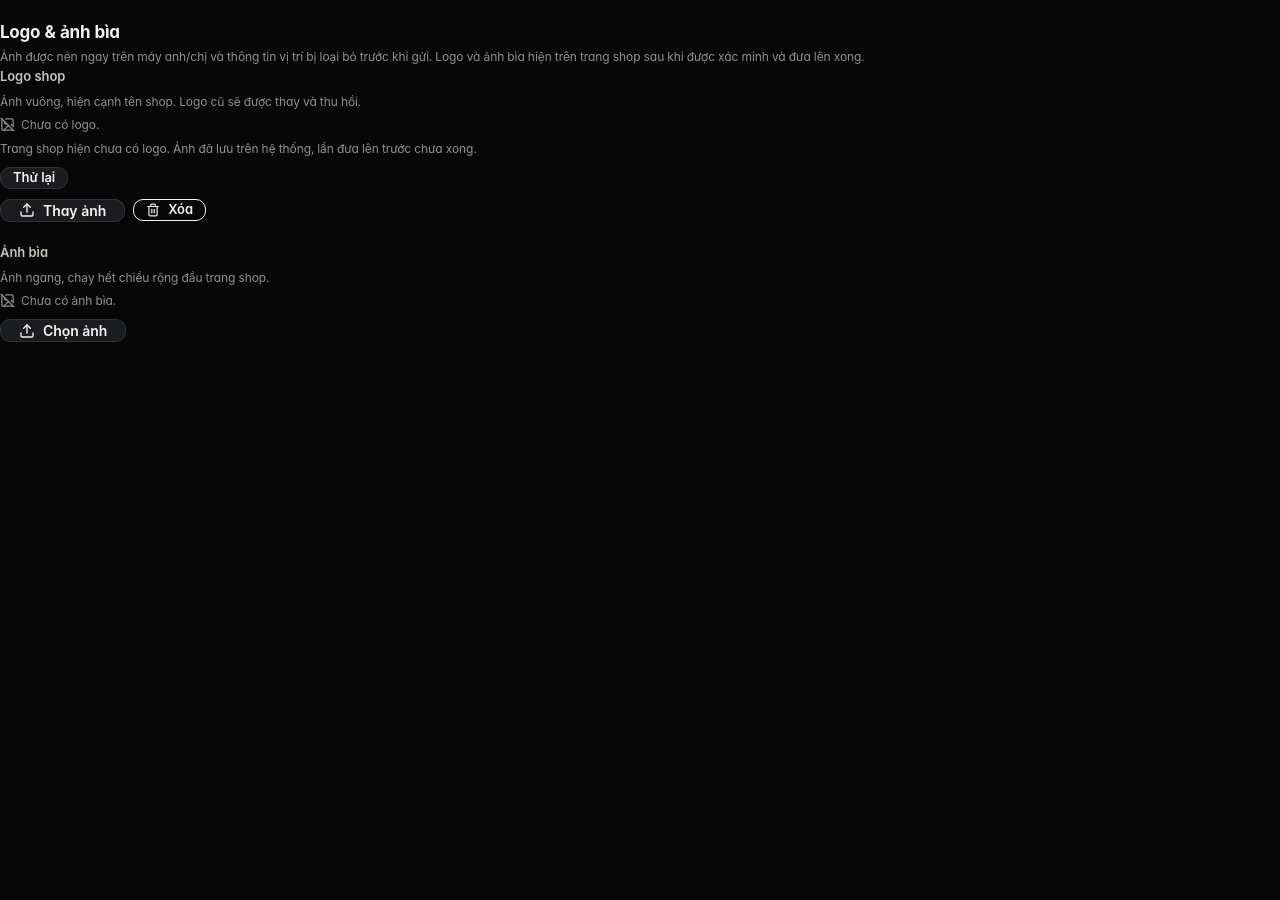
publishing the logo and cover › says what the worker actually refused, and shows the code to screenshot
What coordinates should you click on to do the following:
click the button with aria-label "Thử đưa logo lên trang shop lại"
I would click on:
 (34, 178)
Its box is [0,167,68,189].
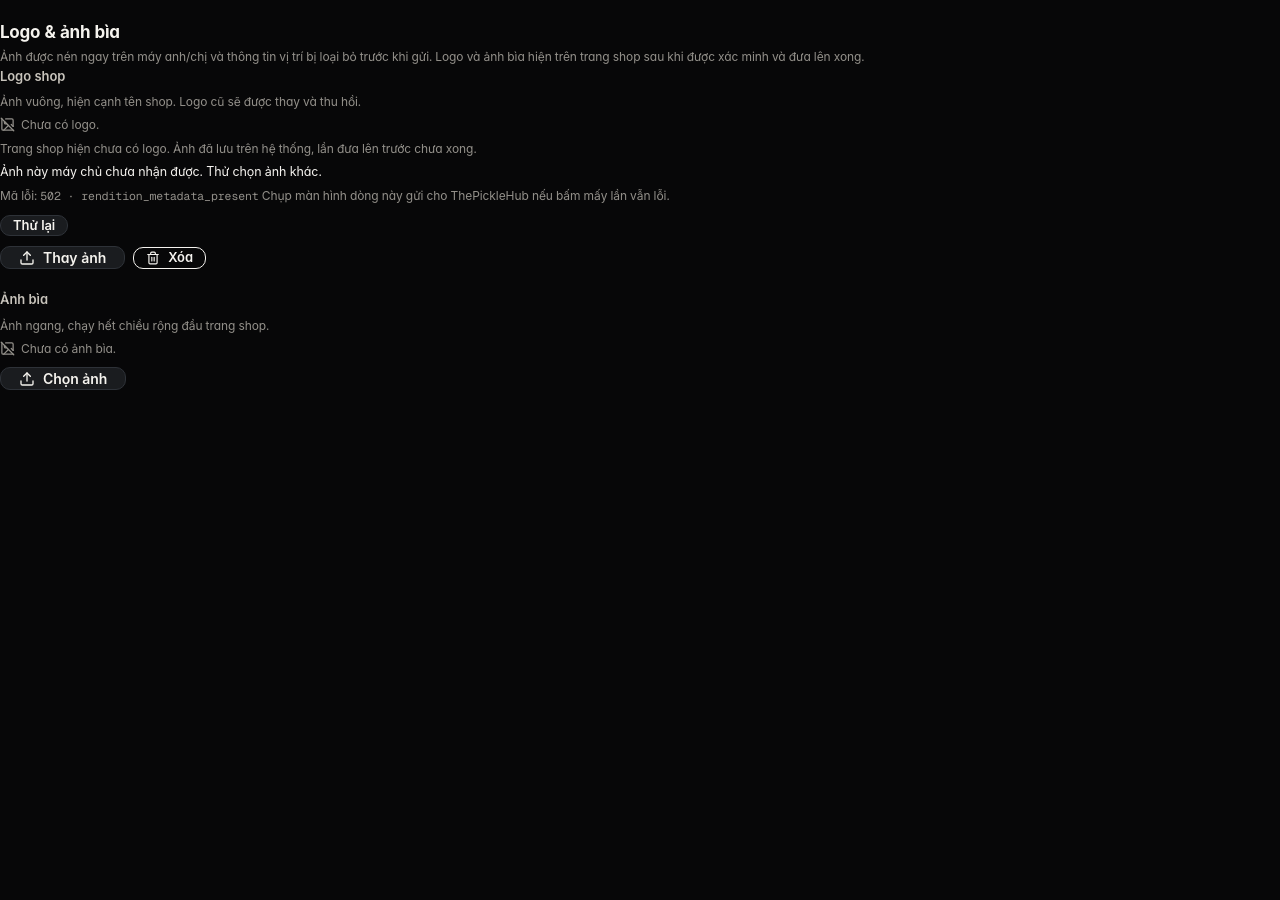
expect the message shows "Thử chọn ảnh khác": met, box [0,164,322,179]
expect the text "502 · rendition_metadata_present" is shown: met, box [40,188,259,203]
